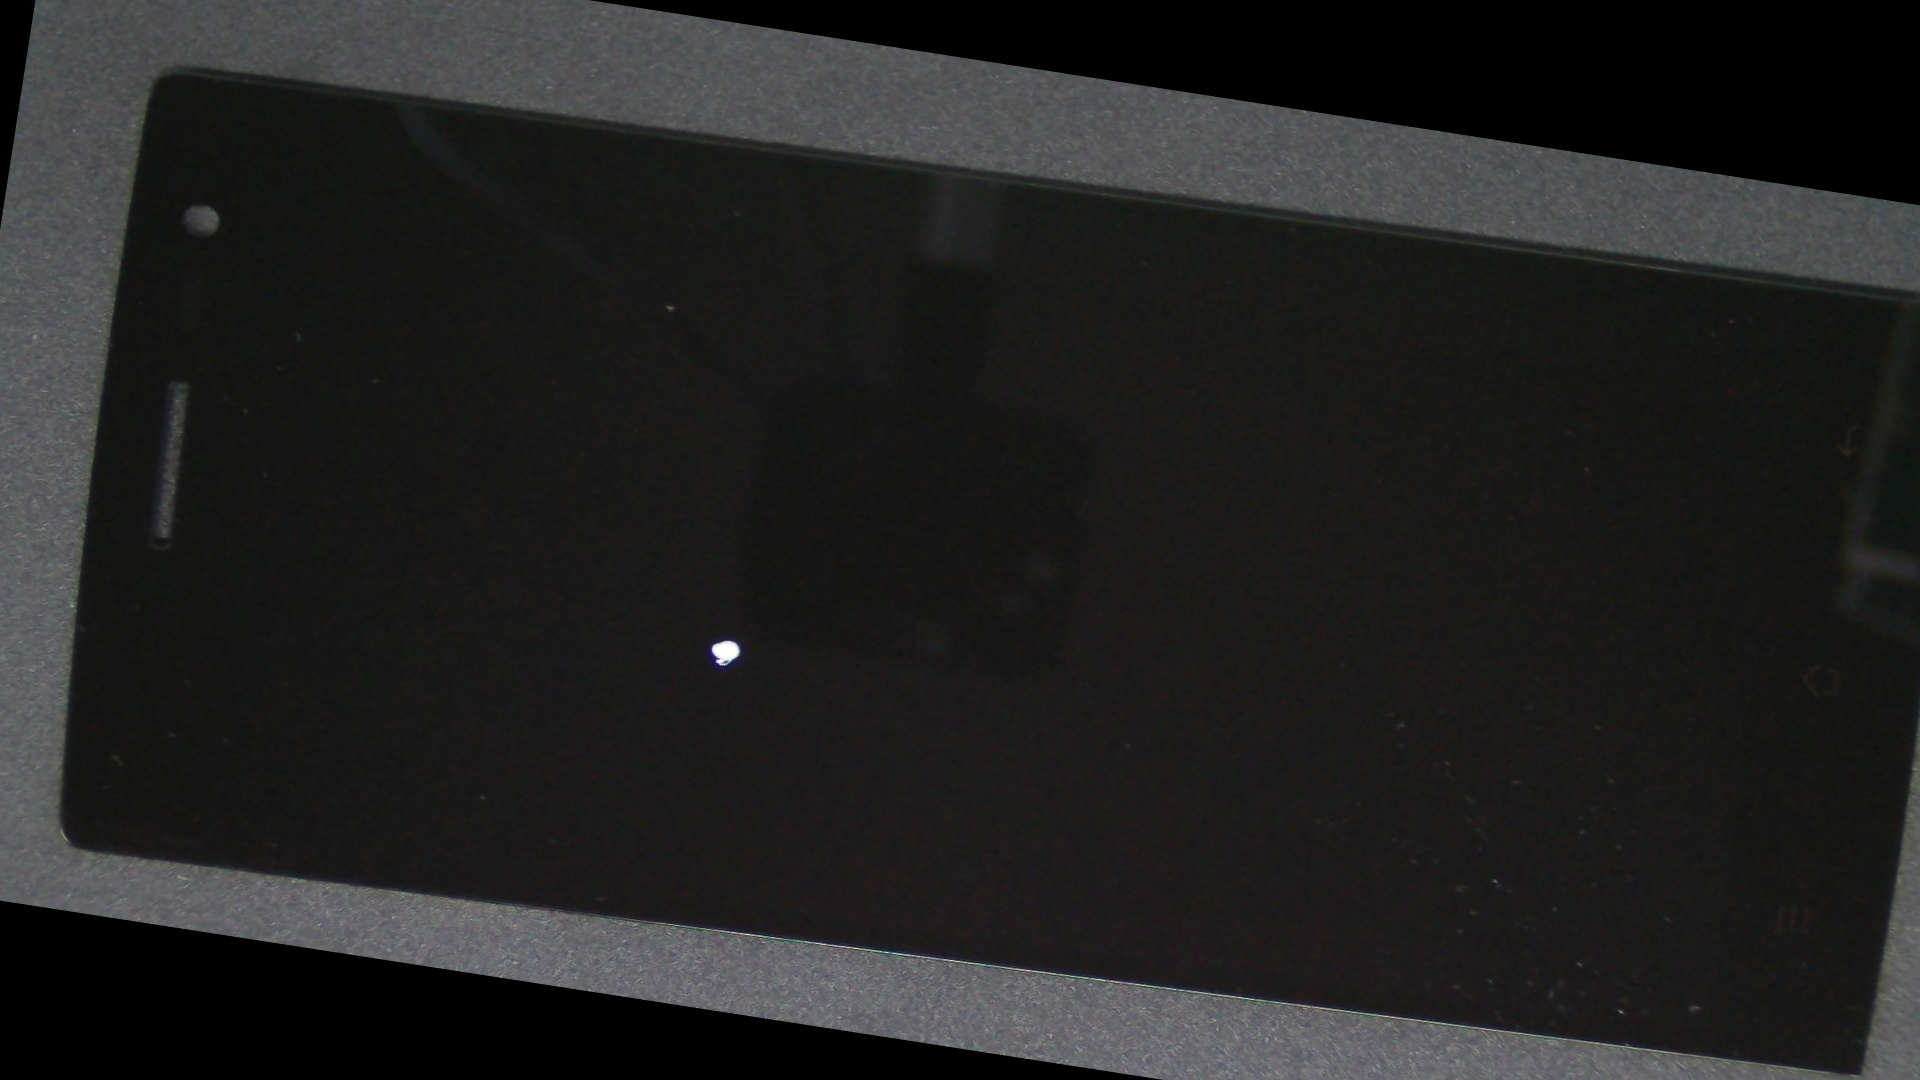oil: (294, 277, 1155, 1000)
